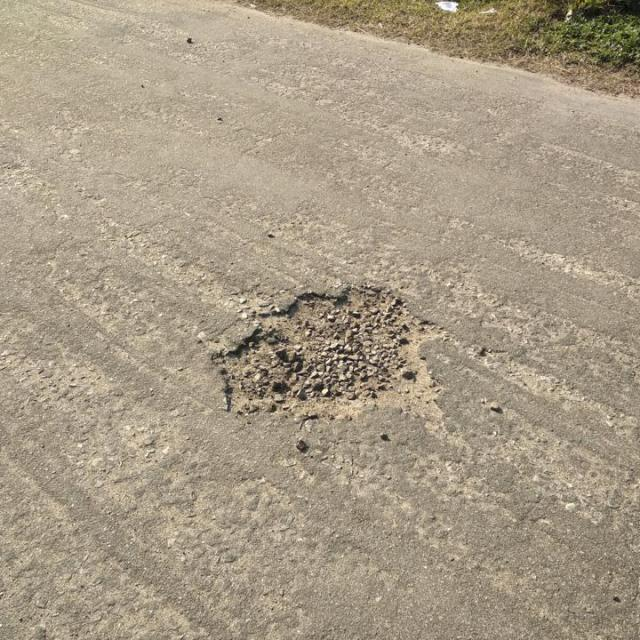Pothole: (210, 282, 452, 422)
